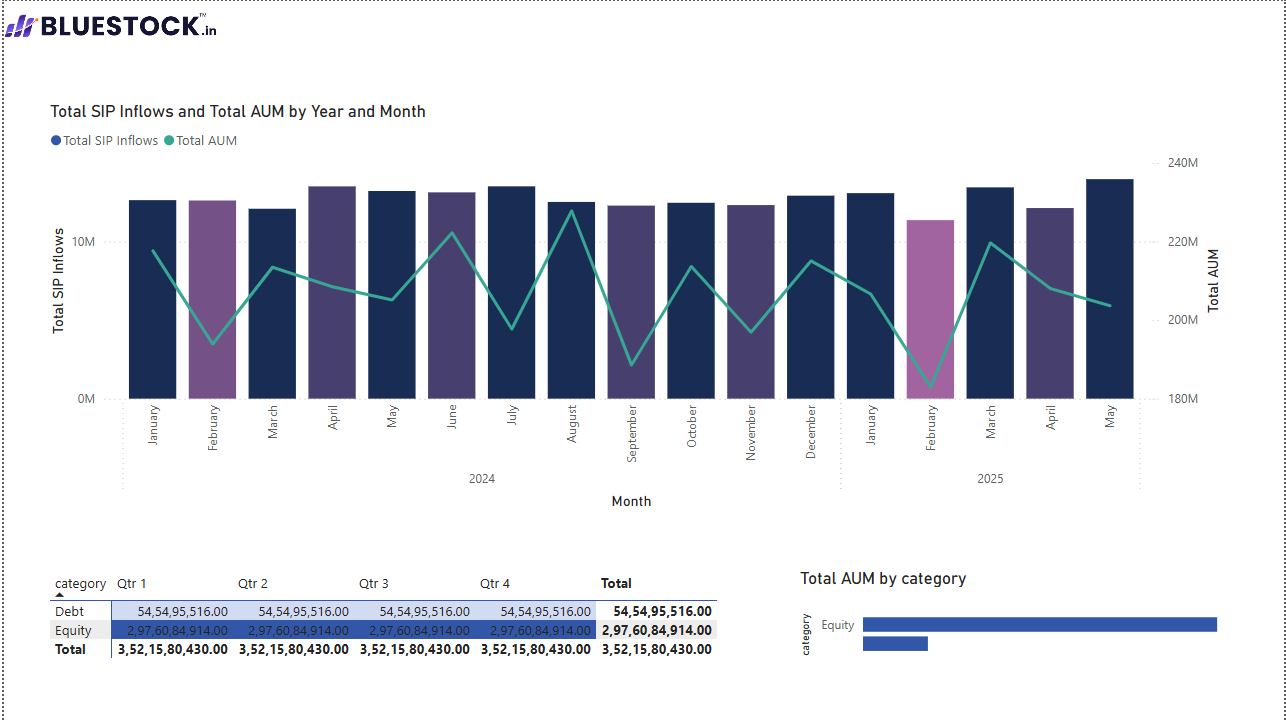

What the dashboard file says about the page in this screenshot:
{"tool":"powerbi","page":{"name":"SIP & Market Trends","canvas":[1280,720],"ordinal":3},"visuals":[{"type":"lineClusteredColumnComboChart","fields":{"Category":["fact_transactions.transaction_date.Variation.Date Hierarchy.Year","fact_transactions.transaction_date.Variation.Date Hierarchy.Month"],"Y":["fact_transactions.Total SIP Inflows"],"Y2":["fact_transactions.Total AUM"]},"box":[40.9,100.2,1179.8,412.4],"z":0},{"type":"pivotTable","fields":{"Rows":["dim_fund.category"],"Columns":["fact_nav.nav_date.Variation.Date Hierarchy.Quarter","fact_nav.nav_date.Variation.Date Hierarchy.Month"],"Values":["fact_transactions.Total AUM"]},"box":[40.9,567.1,680.9,106],"z":1},{"type":"clusteredBarChart","fields":{"Category":["dim_fund.category"],"Y":["fact_transactions.Total AUM"]},"box":[790.8,567.1,429.9,106],"z":2},{"type":"image","box":[0,0,214,47.7],"z":3}]}

Visuals, with their boxes in screenshot pixels (x1, y1, x2, y2), scaled from the page's 1280x720 canvas onto the 1286x720 screenshot:
lineClusteredColumnComboChart - fact_transactions.transaction_date.Variation.Date Hierarchy.Year x fact_transactions.transaction_date.Variation.Date Hierarchy.Month: [41,100,1226,513]
pivotTable - dim_fund.category x fact_nav.nav_date.Variation.Date Hierarchy.Quarter: [41,567,725,673]
clusteredBarChart - dim_fund.category x fact_transactions.Total AUM: [795,567,1226,673]
image: [0,0,215,48]
